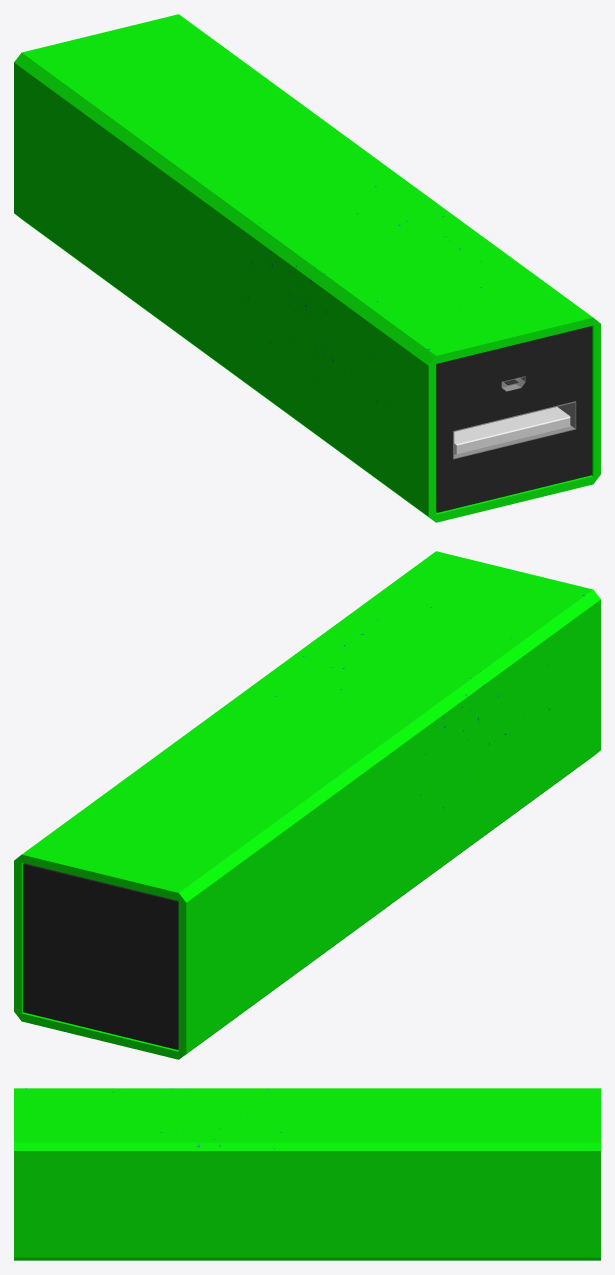
The picture shows the model from 3 angles, top to bottom: view 1: azimuth 30°, elevation 25°; view 2: azimuth 150°, elevation 25°; view 3: azimuth 270°, elevation 25°; orthographic projection. The views are drawn at different scales.
Bounding box in the file's own units: 2.35 × 2.17 × 9.78.
Materials: 1 (1 with a texture image).
